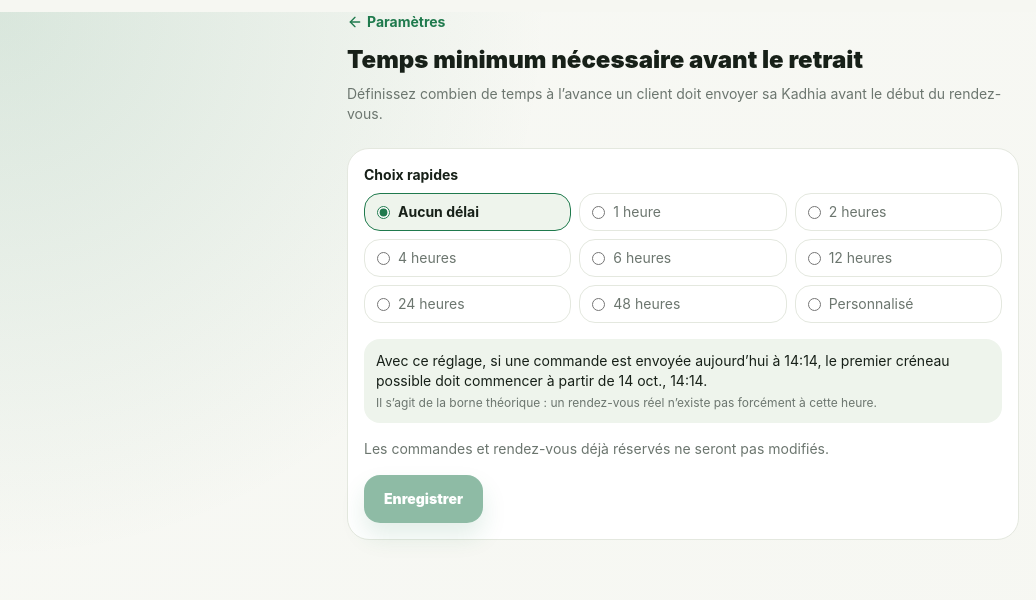
MerchantOrderingPolicyPage (ORDER-LEAD-003) › keeps the saved value visible after a 422 error
This screenshot has width=1036, height=600.
Expected: the button "Enregistrer" is shown, [364, 475, 483, 523]
What coordinates should you click on to do the following:
click the radio button labelled "1 heure"
I would click on:
 (599, 212)
Its box is [592, 206, 605, 218].
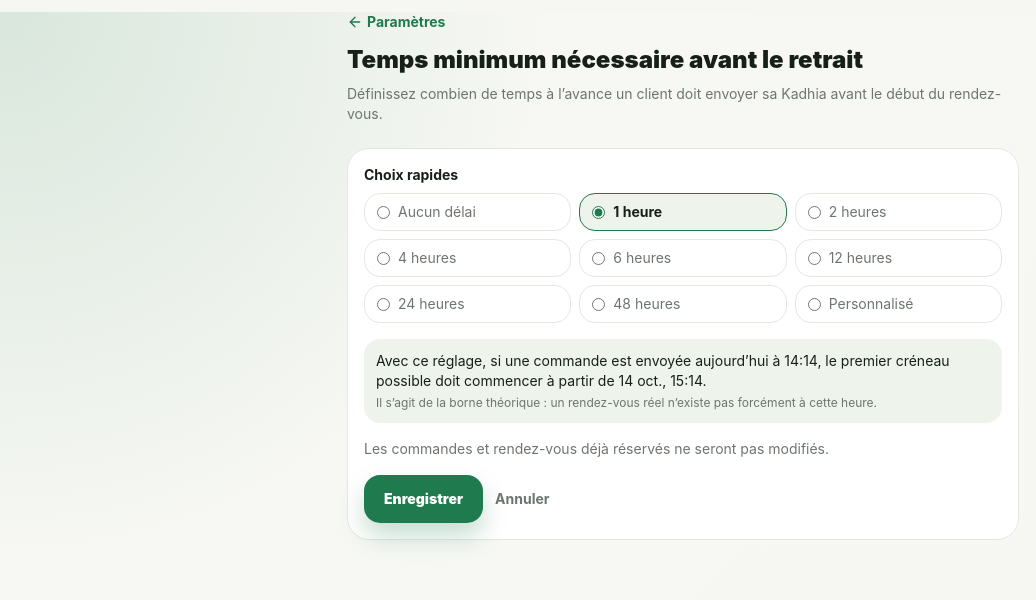
What coordinates should you click on to do the following:
click the button "Enregistrer"
I would click on:
 (424, 499)
Its box is [364, 475, 483, 523].
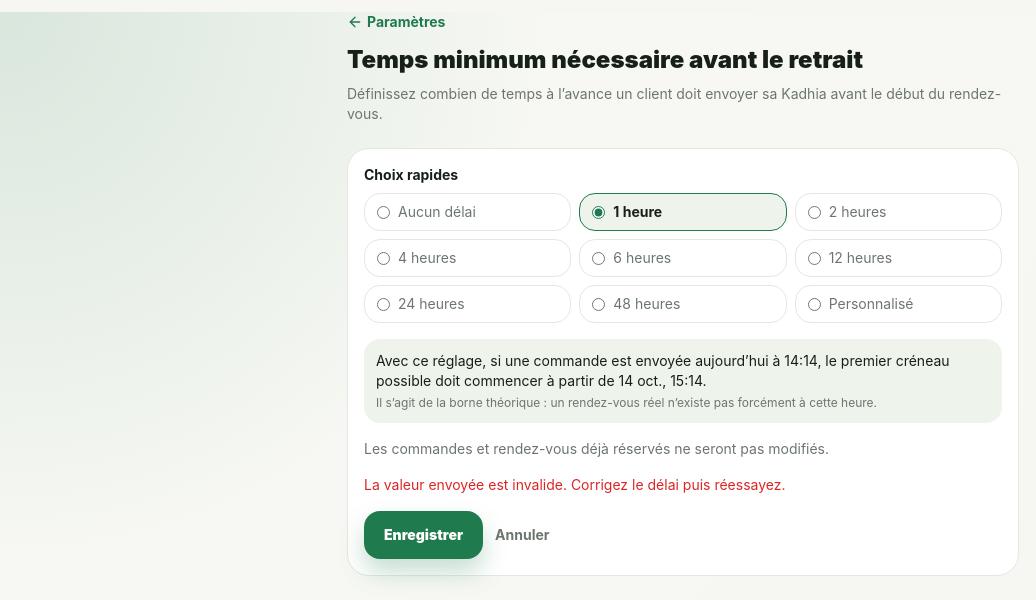
Expected: the text "La valeur envoyée est invalide. Corrigez le délai puis réessayez." is shown, [364, 476, 786, 493]
Note: Cancel restores the last saved server value.
What coordinates should you click on to do the following:
click the button "Annuler"
I would click on:
 (522, 535)
Its box is [495, 525, 549, 545].
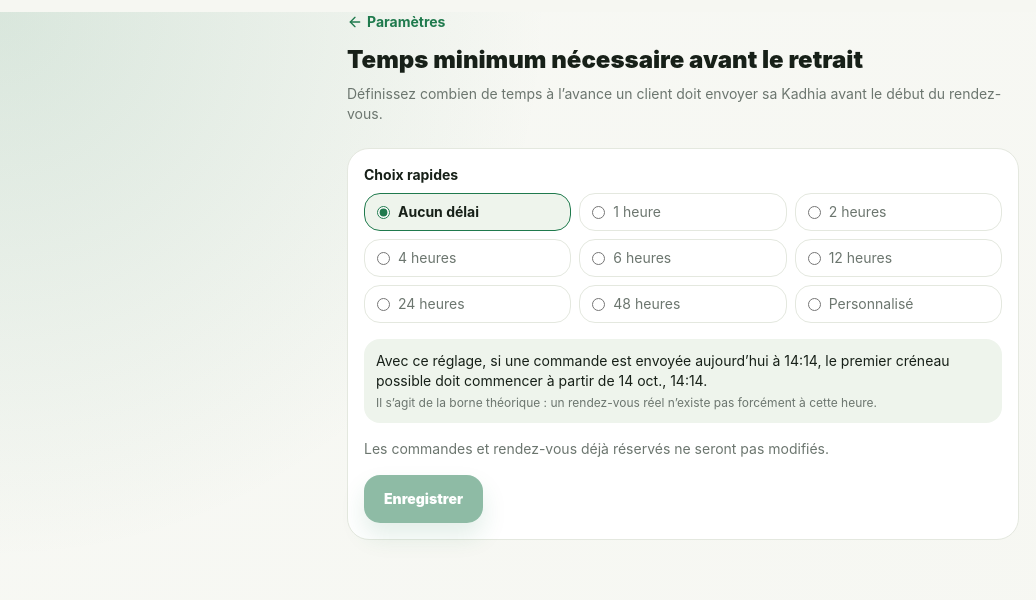
Expected: the radio button labelled "Aucun délai" is checked, [377, 206, 390, 218]
